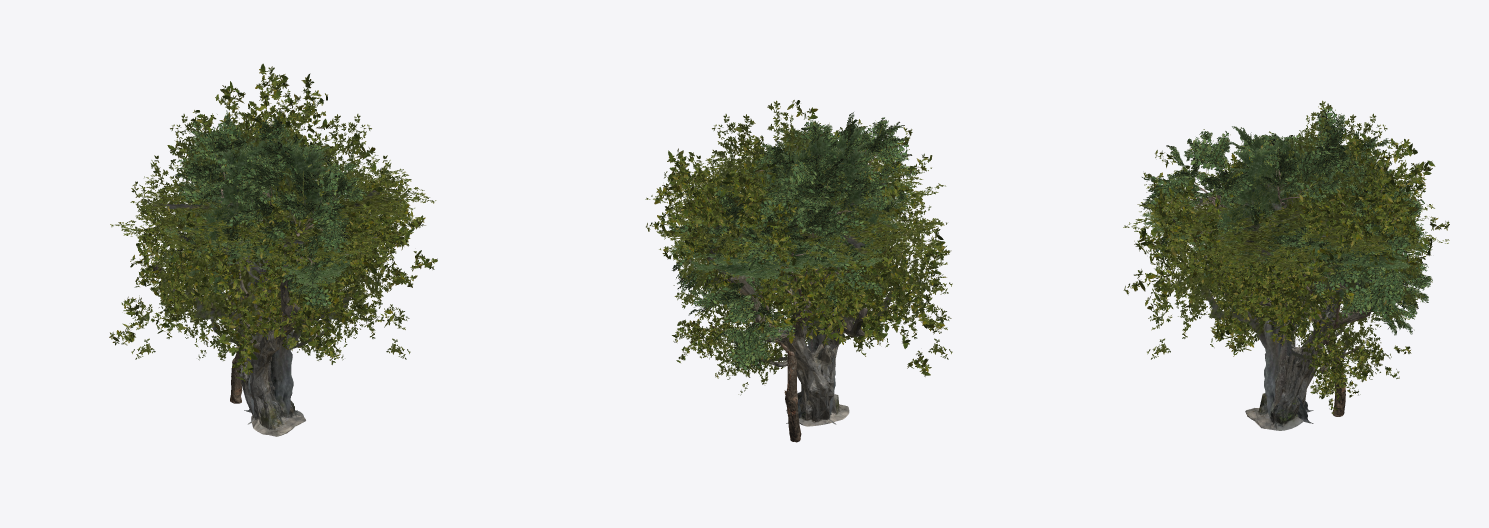
The model's file is floresta-lods-mobile.glb.
3 renders of one model, left to right at view 1: azimuth 30°, elevation 25°; view 2: azimuth 150°, elevation 25°; view 3: azimuth 270°, elevation 25°, orthographic.
Parts seen in each view (by area): view 1: v0_far, v0_near, v0_mid, v1_mid, v1_near, v1_far; view 2: v0_near, v0_mid, v0_far, v1_mid, v1_near, v1_far; view 3: v0_far, v0_near, v0_mid, v1_mid, v1_near, v1_far.
Boxes of the visible parts, x1,y1,x2,y2 form: v0_far: [110, 100, 436, 424]; v0_near: [110, 66, 436, 436]; v0_mid: [109, 63, 437, 436]; v1_mid: [160, 110, 366, 403]; v1_near: [162, 114, 365, 403]; v1_far: [163, 134, 361, 400]; v0_near: [646, 100, 948, 426]; v0_mid: [646, 100, 949, 426]; v0_far: [645, 100, 952, 424]; v1_mid: [662, 112, 916, 442]; v1_near: [669, 113, 913, 441]; v1_far: [669, 126, 913, 352]; v0_far: [1123, 100, 1449, 423]; v0_near: [1123, 127, 1449, 430]; v0_mid: [1124, 128, 1449, 430]; v1_mid: [1141, 107, 1432, 416]; v1_near: [1143, 111, 1432, 416]; v1_far: [1142, 126, 1432, 407].
Bounding box in the file's own units: 5.53 × 5.53 × 5.53.
10 materials, 10 textured.
